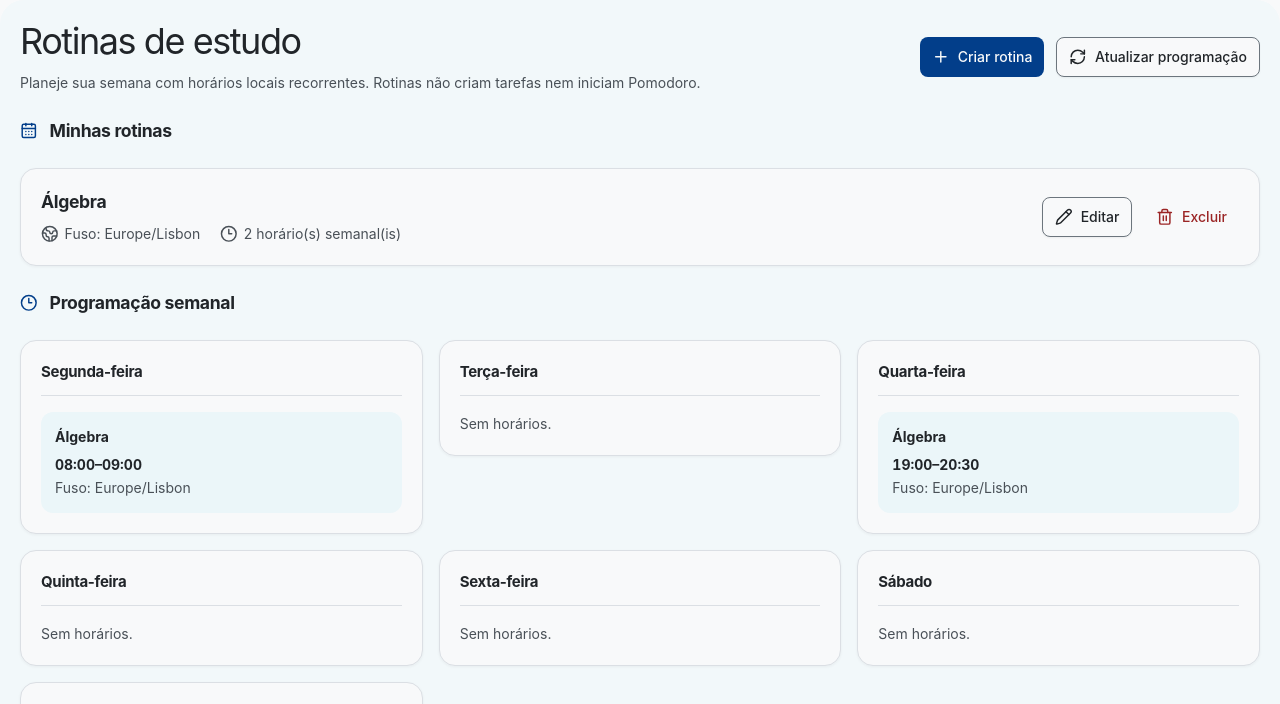
it: confirms deletion with focus and leaves data unchanged on cancel or failure
The image size is (1280, 704).
Click the button with aria-label "Excluir Álgebra" at (1192, 217), box x1=1144 y1=197 x2=1239 y2=237
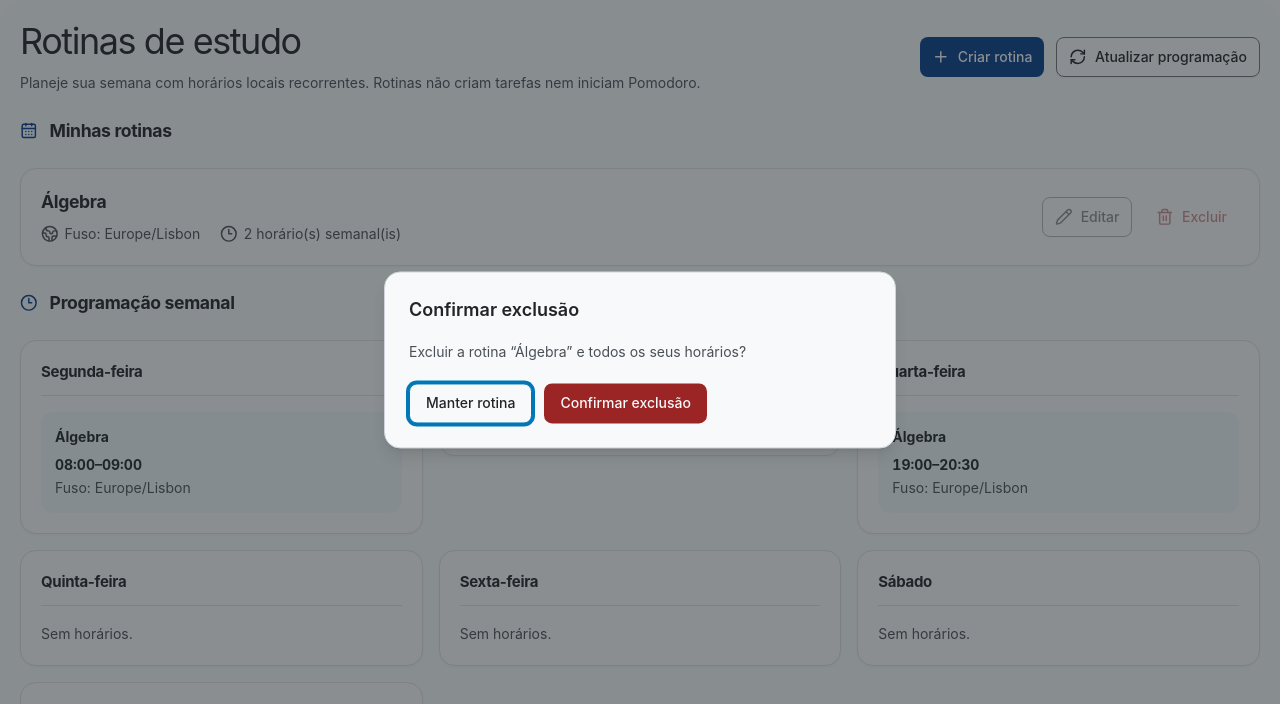
Press Enter
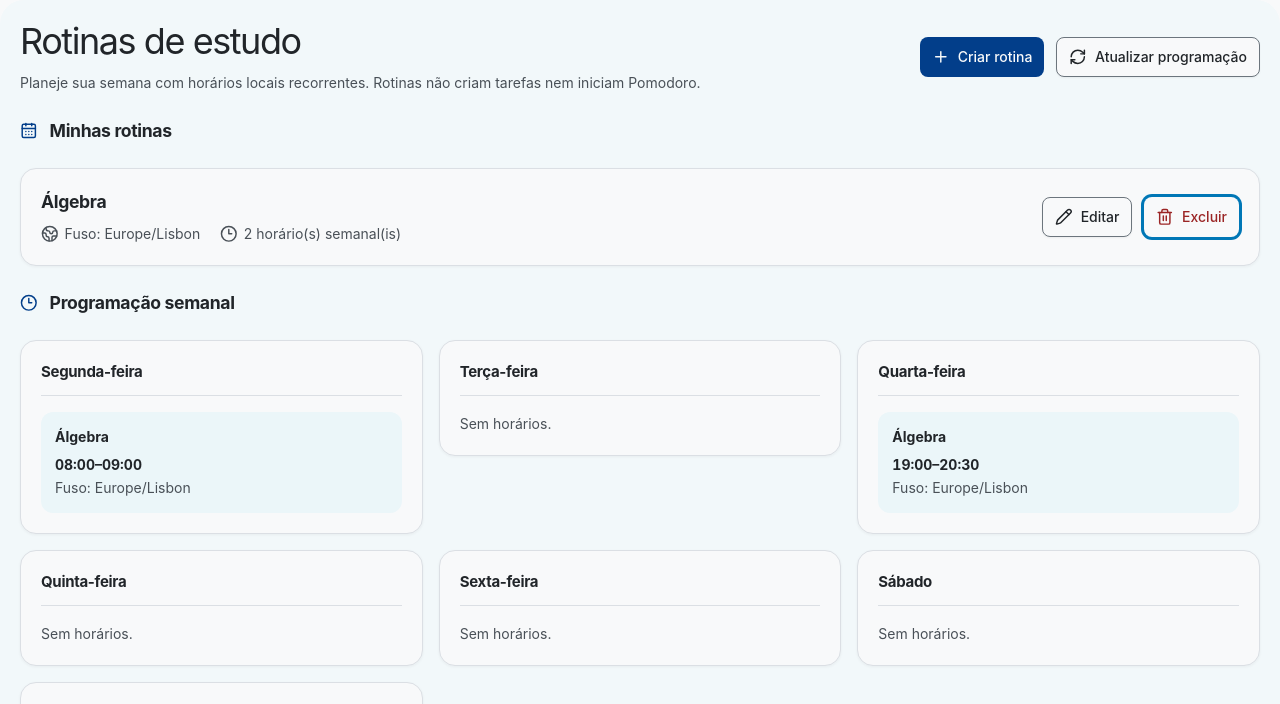
Click the button with aria-label "Excluir Álgebra" at (1192, 217), box x1=1144 y1=197 x2=1239 y2=237
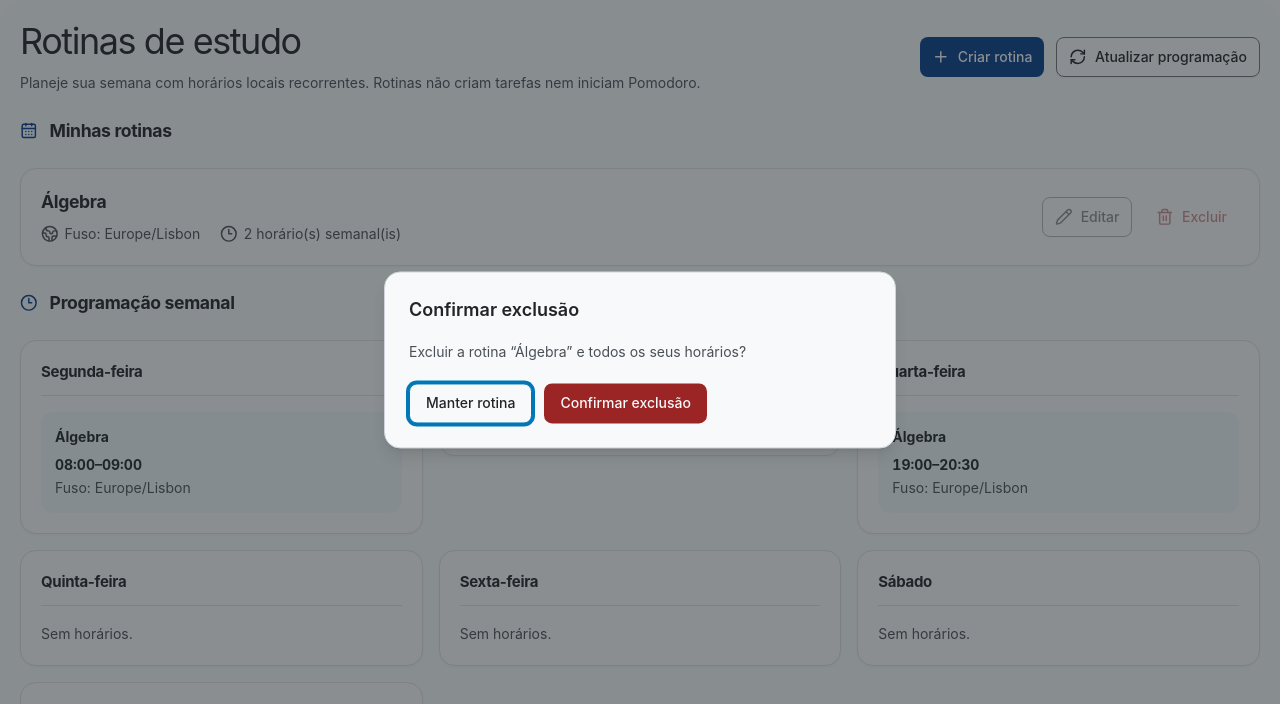
Click the button "Confirmar exclusão" at (626, 404), box x1=544 y1=384 x2=707 y2=424
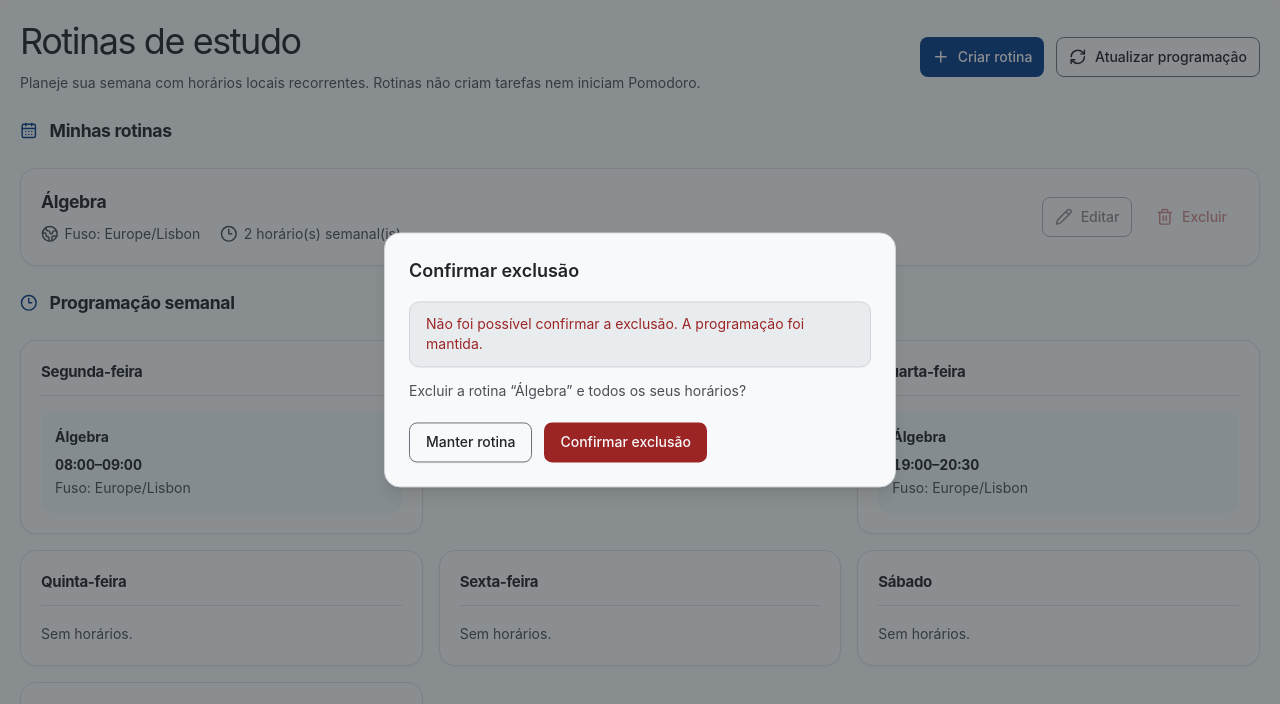
Check: the text "Rotina excluída." is not shown
Check: the text "A programação foi mantida" is shown, box x1=426 y1=316 x2=804 y2=352
Click the button "Confirmar exclusão" at (626, 442), box x1=544 y1=422 x2=707 y2=462
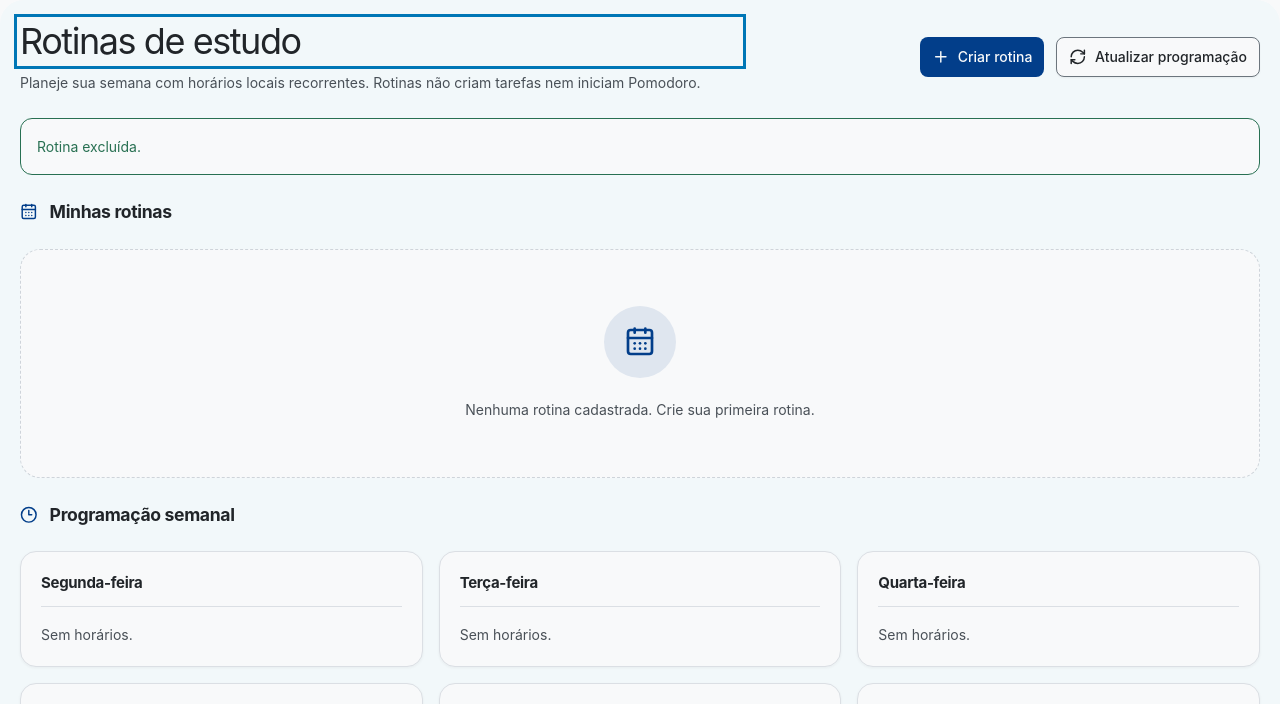
Check: the text "Rotina excluída." is shown, box x1=20 y1=118 x2=1260 y2=175
Check: the text "Nenhuma rotina cadastrada. Crie sua primeira rotina." is shown, box x1=465 y1=398 x2=815 y2=421
Check: the text "08:00–09:00" is gone
